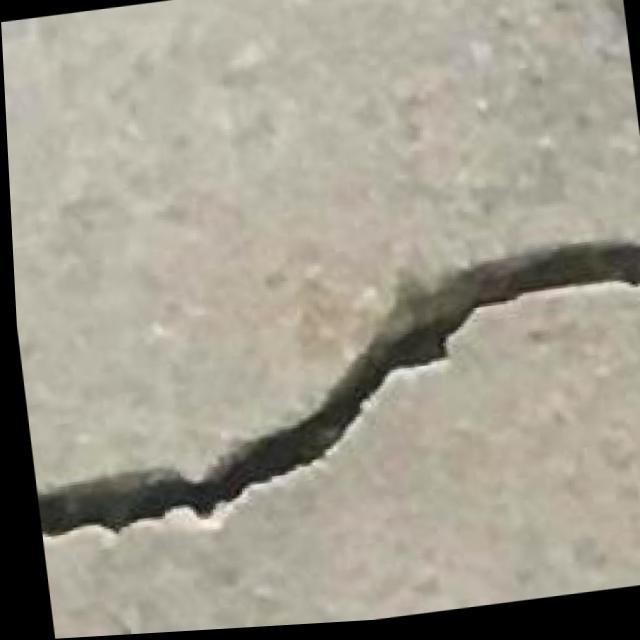Crack: (12, 230, 640, 574)
